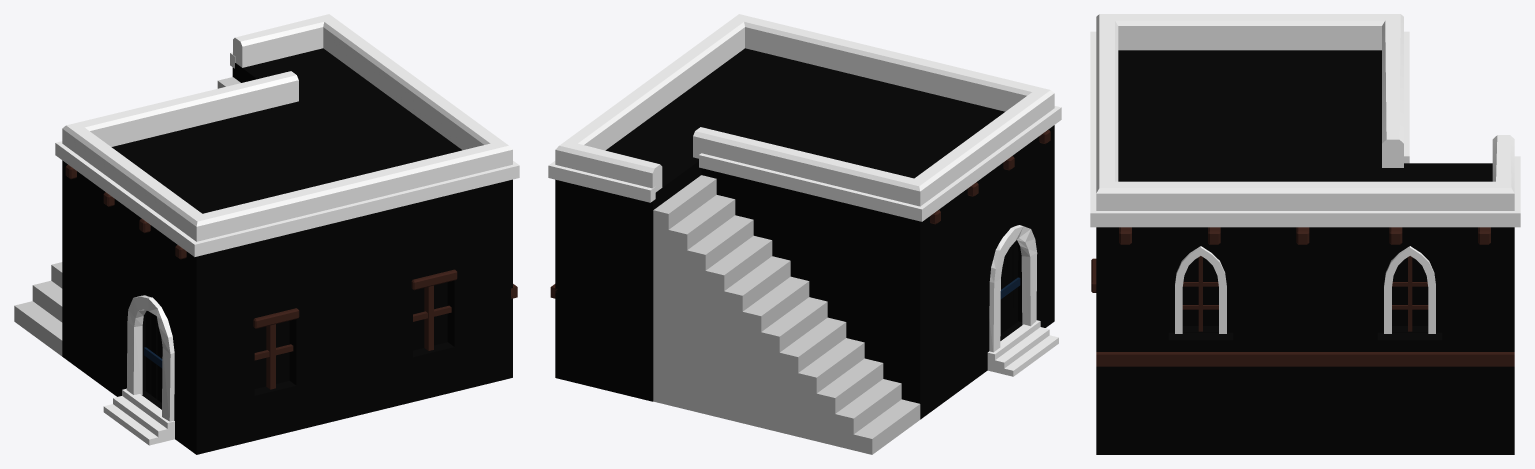
The model's file is civilian_house_31_e.FBX.
3 renders of one model, left to right at view 1: azimuth 30°, elevation 25°; view 2: azimuth 150°, elevation 25°; view 3: azimuth 270°, elevation 25°, orthographic. The views are drawn at different scales.
Parts seen in each view (by area): view 1: civilian_house_31_e; view 2: civilian_house_31_e; view 3: civilian_house_31_e.
Part boxes in pixels (left/top/right/bottom): civilian_house_31_e: left=14, top=14, right=519, bottom=454; civilian_house_31_e: left=548, top=14, right=1061, bottom=454; civilian_house_31_e: left=1090, top=14, right=1520, bottom=454.
Size of the model in its own units: 899 by 560 by 822.
